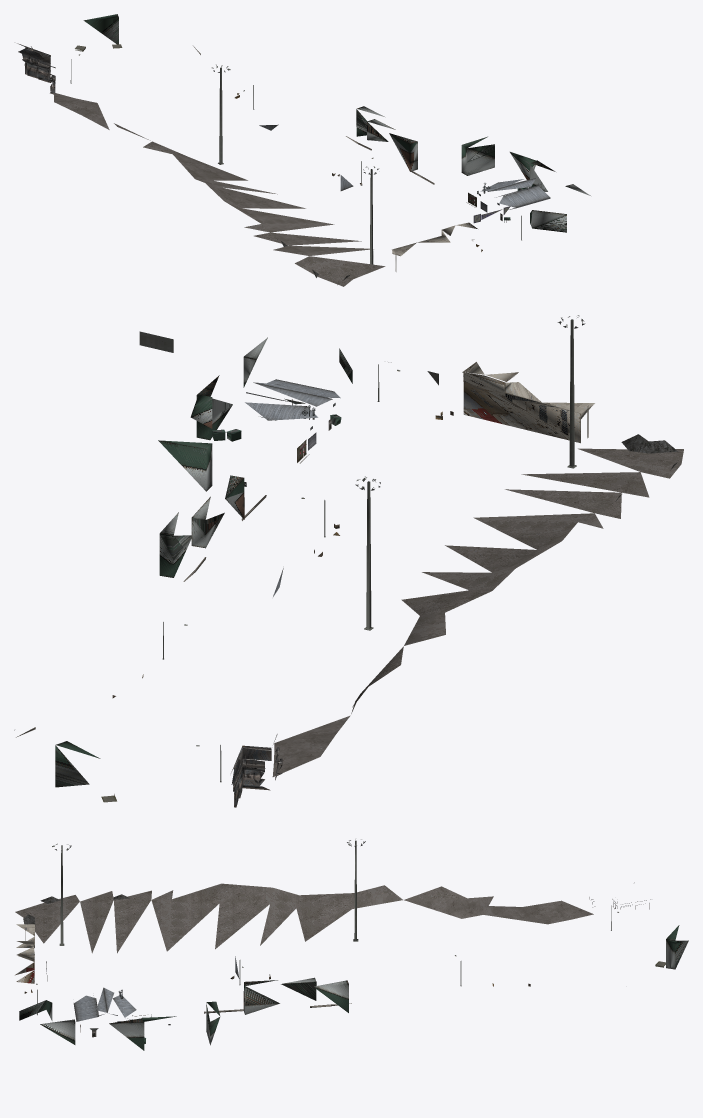
The model's file is world_camden_13_0.gltf.
3 views of the same model, one above another, from view 1: azimuth 30°, elevation 25°; view 2: azimuth 150°, elevation 25°; view 3: azimuth 270°, elevation 25° (orthographic). The views are drawn at different scales.
Size of the model in its own units: 172 by 44.79 by 257.
37 materials, 37 textured.
